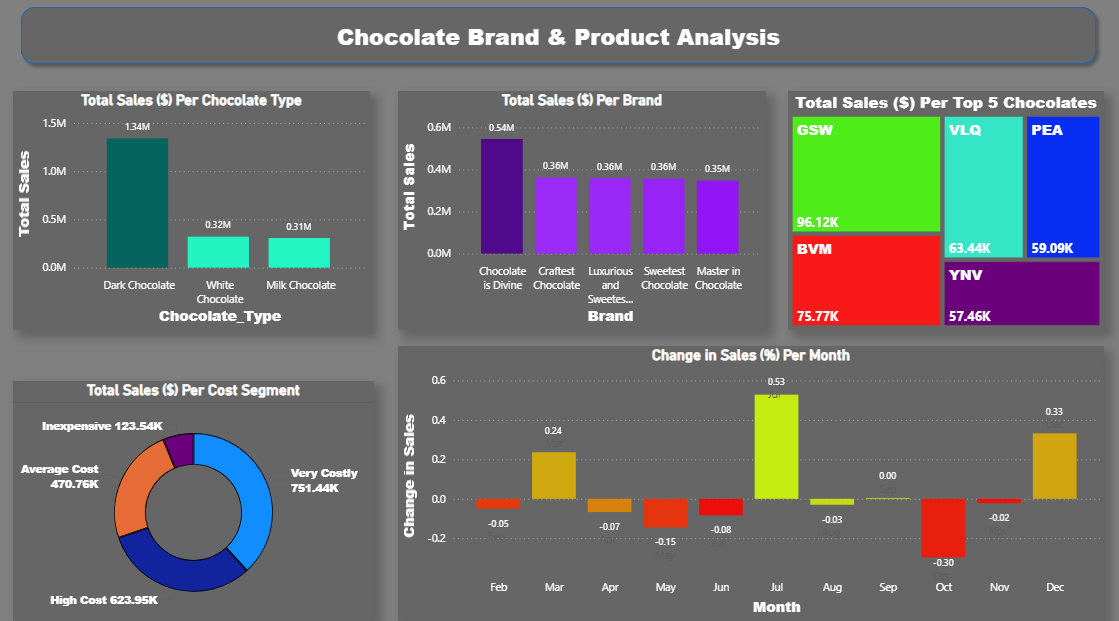

The dashboard page shown, as its layout file describes it:
{"tool":"powerbi","page":{"name":"Product & Brand Analysis","canvas":[1280,720],"ordinal":3},"visuals":[{"type":"clusteredColumnChart","title":"Total Sales ($) Per Chocolate Type","fields":{"Y":["#Measures.Total Sales"],"Category":["product_dimension.Chocolate_Type"]},"box":[19.4,116.2,406.7,272.3],"z":0},{"type":"clusteredColumnChart","title":"Total Sales ($) Per Brand","fields":{"Y":["#Measures.Total Sales"],"Category":["product_dimension.Brand"]},"box":[458,116.2,419.2,272.3],"z":1000},{"type":"donutChart","title":"Total Sales ($) Per  Cost Segment","fields":{"Category":["product_dimension.Cost_segment"],"Y":["#Measures.Total Sales"]},"box":[19.4,446.6,411.3,273.4],"z":2000},{"type":"treemap","title":"Total Sales ($) Per Top 5 Chocolates","fields":{"Group":["product_dimension.Chocolate_Name"],"Values":["#Measures.Total Sales"]},"box":[902.3,116.2,360,272.3],"z":3000},{"type":"clusteredColumnChart","title":"Change in Sales (%) Per Month","fields":{"Category":["Calendar_Dimension.Month"],"Y":["#Measures.Change_in_sales"]},"box":[458,406.7,804.3,313.3],"z":4000},{"type":"shape","box":[19.4,11.4,1242.9,95.7],"z":5000}]}

Visuals, with their boxes in screenshot pixels (x1, y1, x2, y2), scaled from the page's 1280x720 canvas onto the 1119x621 screenshot:
"Total Sales ($) Per Chocolate Type" clusteredColumnChart: l=17, t=100, r=373, b=335
"Total Sales ($) Per Brand" clusteredColumnChart: l=400, t=100, r=767, b=335
"Total Sales ($) Per  Cost Segment" donutChart: l=17, t=385, r=377, b=620
"Total Sales ($) Per Top 5 Chocolates" treemap: l=789, t=100, r=1104, b=335
"Change in Sales (%) Per Month" clusteredColumnChart: l=400, t=351, r=1104, b=620
shape: l=17, t=10, r=1104, b=92
